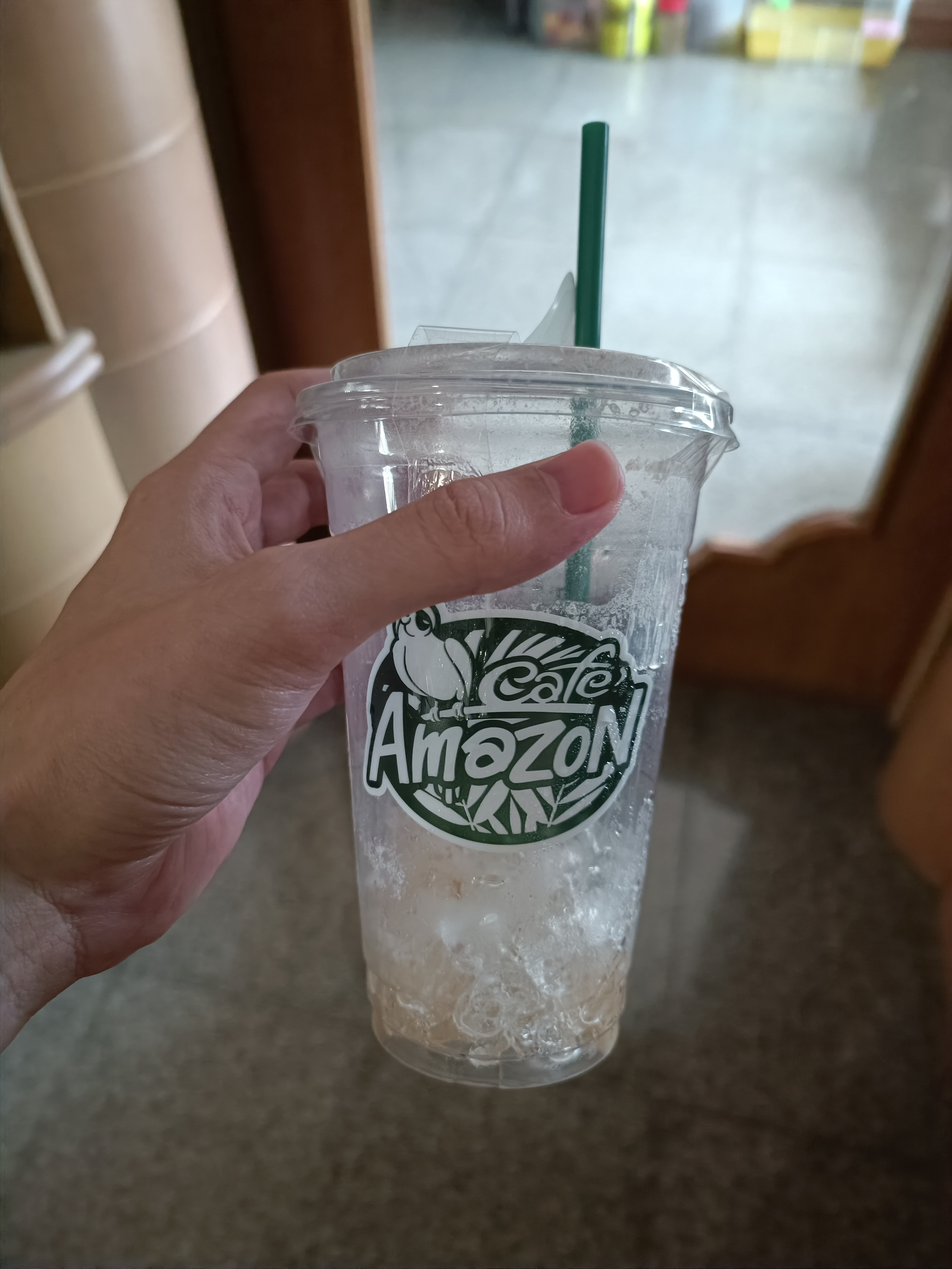plastic: (266, 113, 762, 1110)
